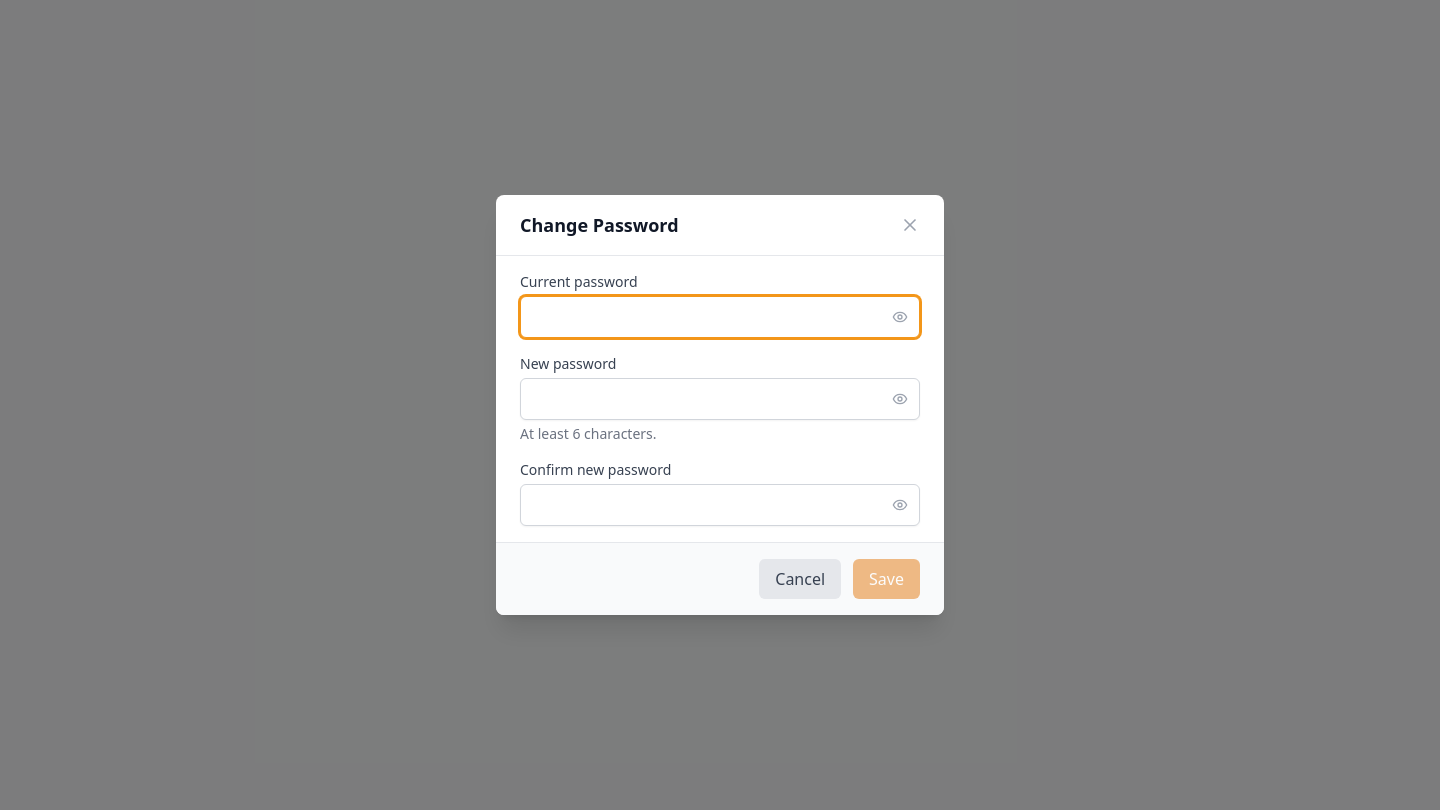
Test case: ChangePasswordModal › turns Save on once all three are in, six characters long, matching and different
Type "old-pass" into the password field labelled "Current password". click: (720, 317)
box: [520,296,920,338]
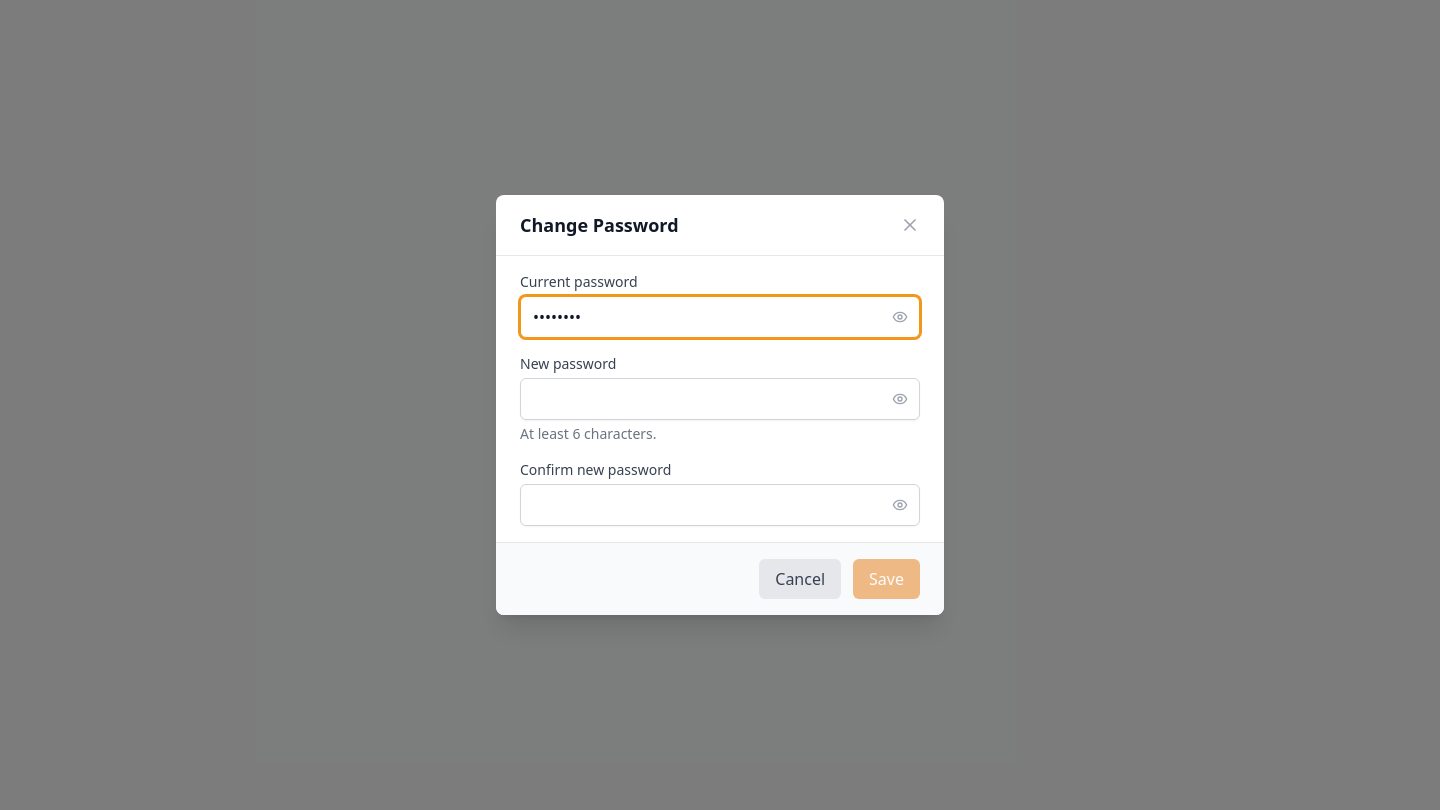
Type "123456" into the password field labelled "New password". click: (720, 399)
box: [520,378,920,420]
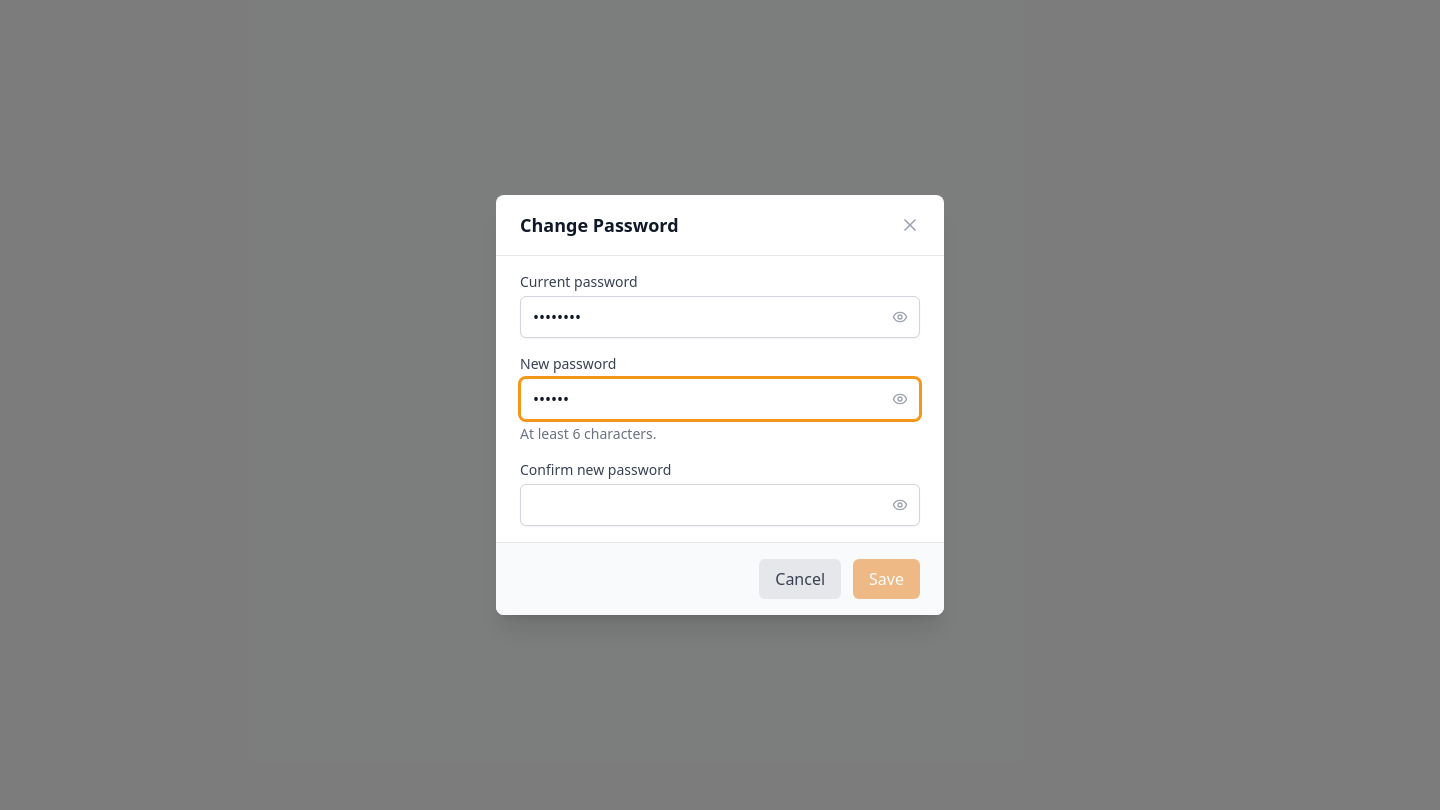
Type "123456" into the password field labelled "Confirm new password". click: (720, 505)
box: [520,484,920,526]
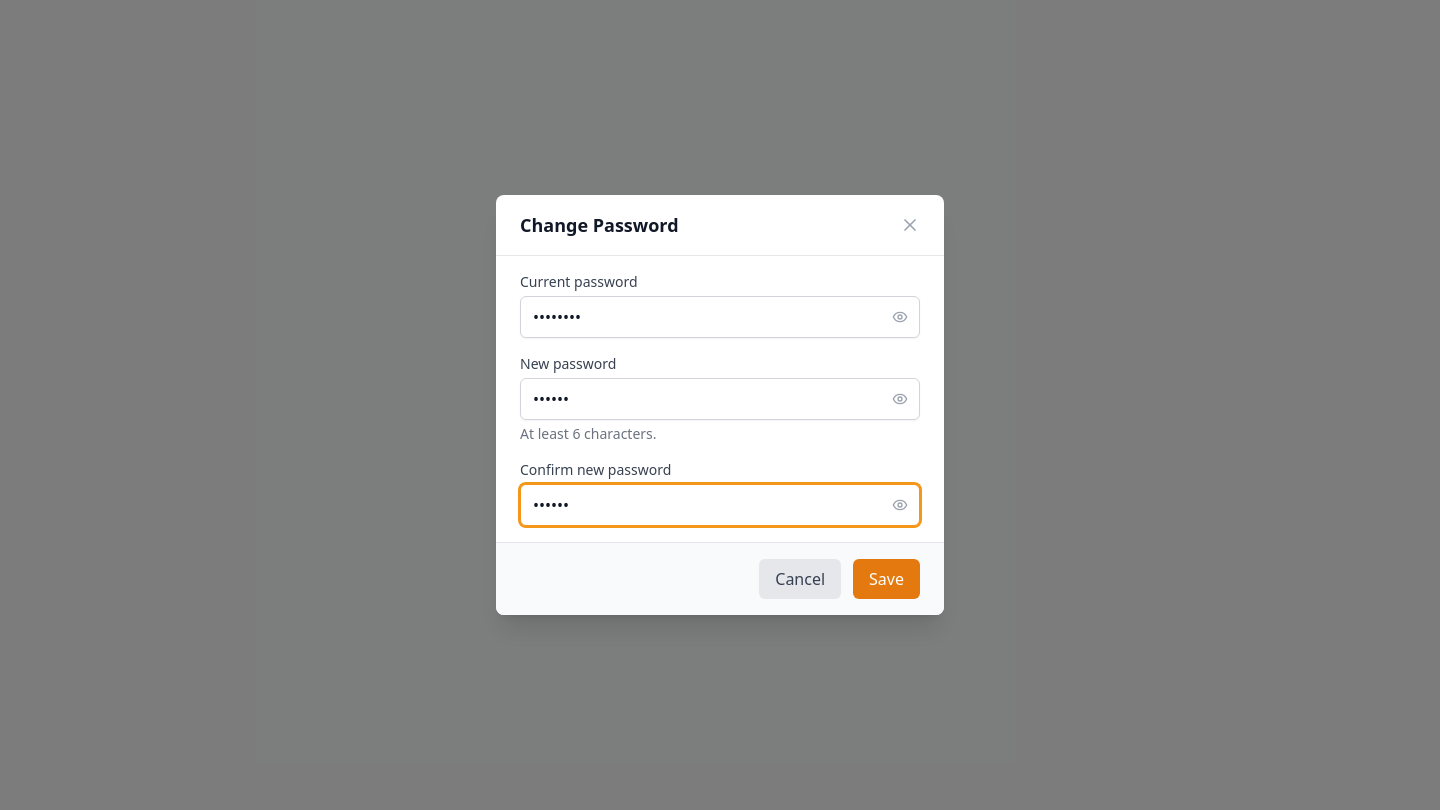
Check: the button "Save" is enabled, box [853,559,920,599]
